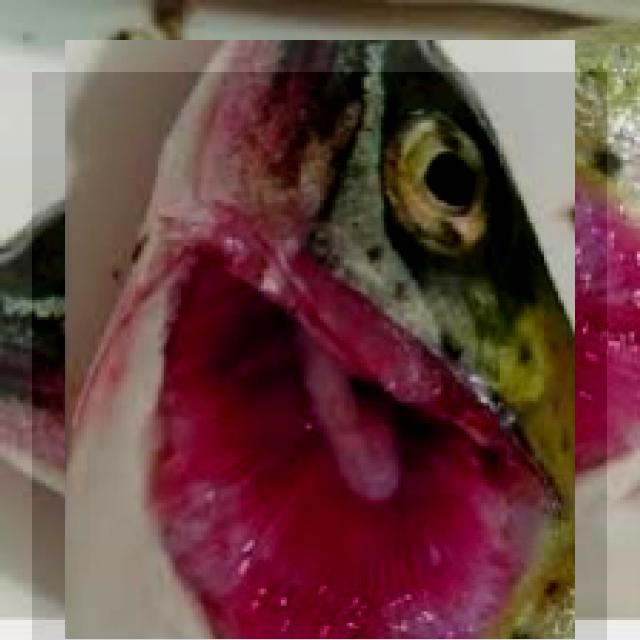Gill Disease: (32, 72, 607, 640)
